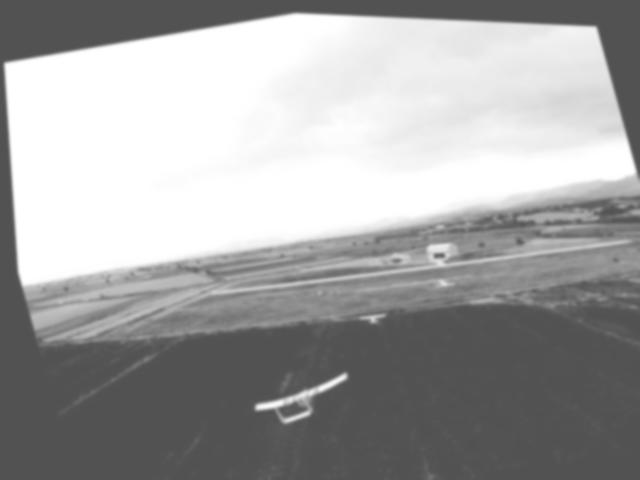hedef: (231, 352, 362, 442)
